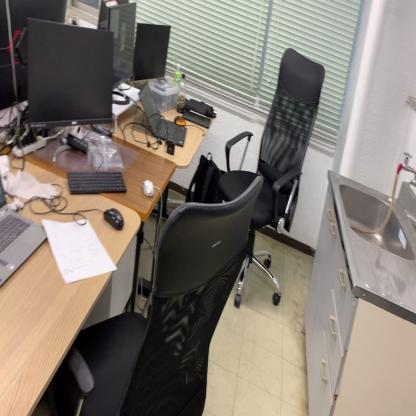chair: (64, 177, 266, 416), (224, 47, 324, 314)
